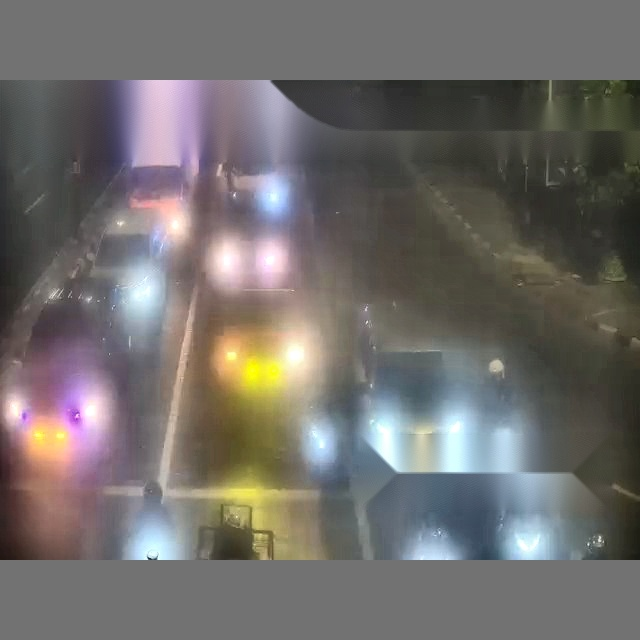Mobil: (92, 207, 171, 346)
